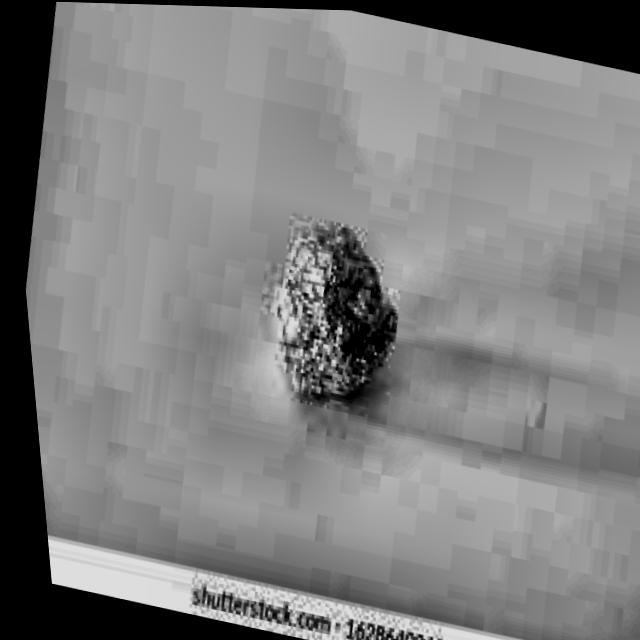Foil: (230, 199, 423, 427)
